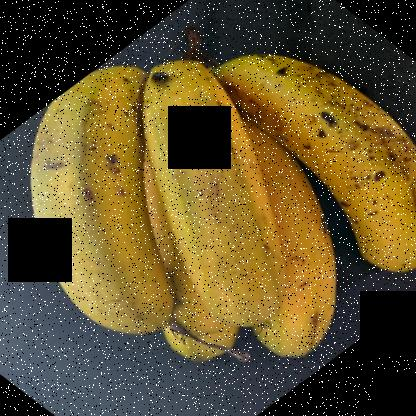ripe: (220, 40, 415, 284), (135, 57, 291, 358), (35, 57, 170, 358)
